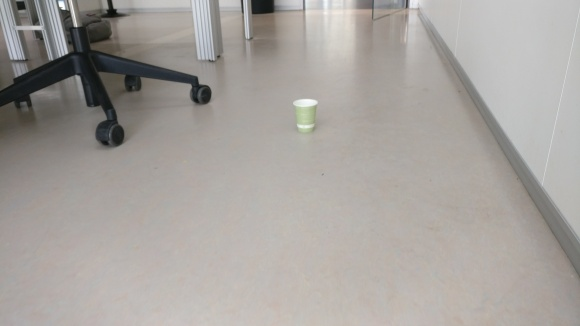cup: (292, 97, 317, 132)
